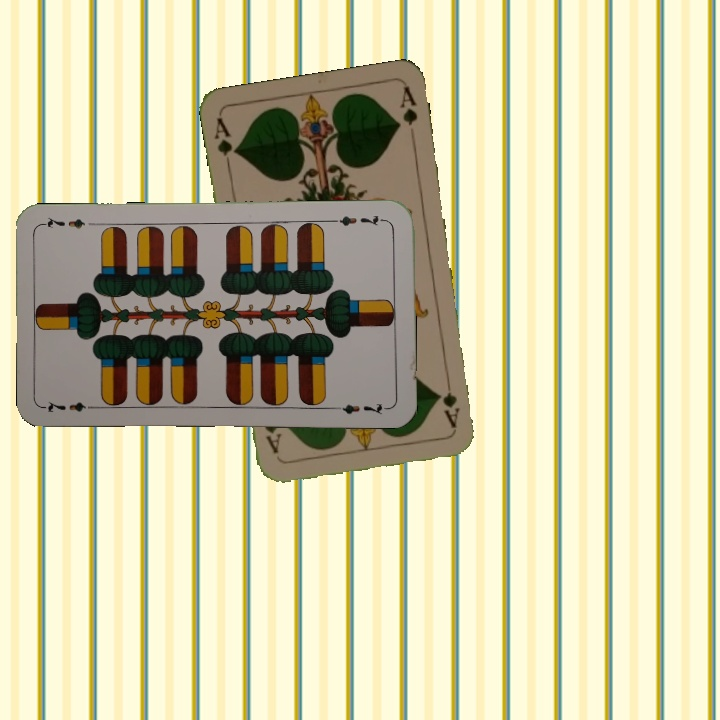E7: (41, 397, 101, 415), (329, 211, 388, 229)
GA: (210, 113, 240, 172), (439, 371, 463, 430)
